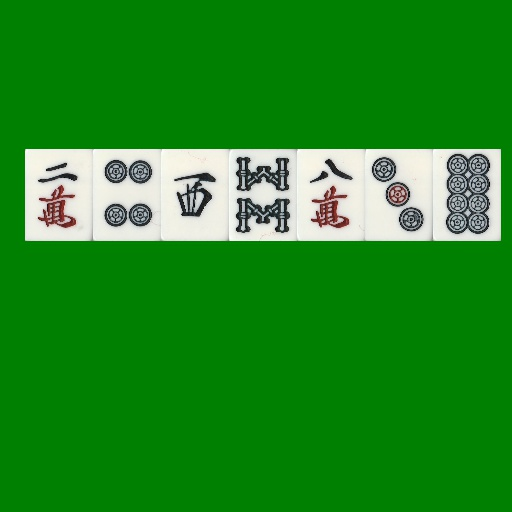2m: (25, 149, 93, 241)
3p: (365, 149, 433, 241)
4p: (93, 149, 161, 241)
8m: (297, 149, 365, 241)
8p: (433, 149, 501, 241)
8s: (229, 149, 297, 241)
west: (161, 149, 229, 241)
